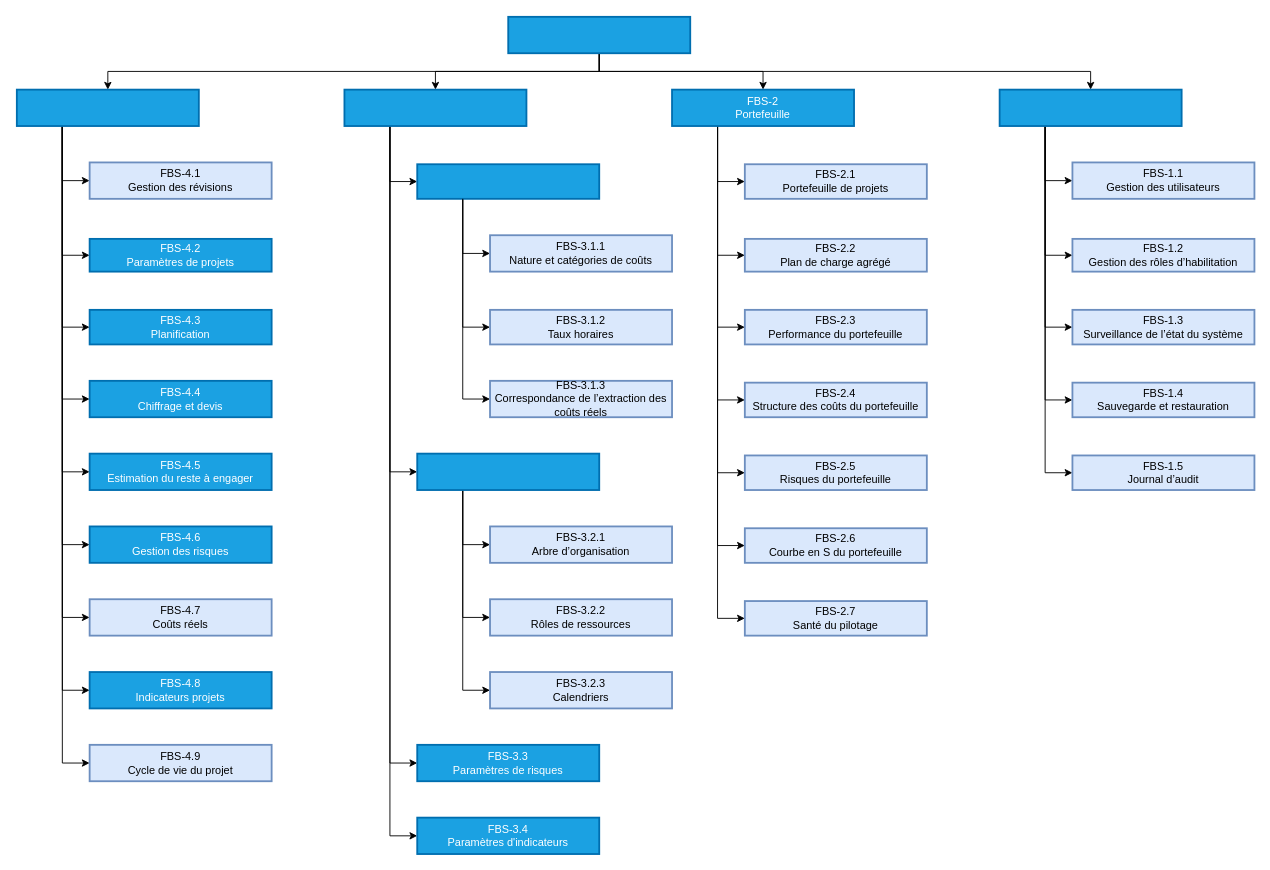
Image size: 1270x870. Some labels were removed from this diagram. Here are the shapes that lost their labels. From the top down, the centre of each, then its label:
(599,34): Waterfall
(107,107): FBS-4 Projets
(435,107): FBS-3 Paramètres applicatifs
(1090,107): FBS-1 Administration
(508,181): FBS-3.1 Paramètres de coûts
(508,471): FBS-3.2 Paramètres de ressources
